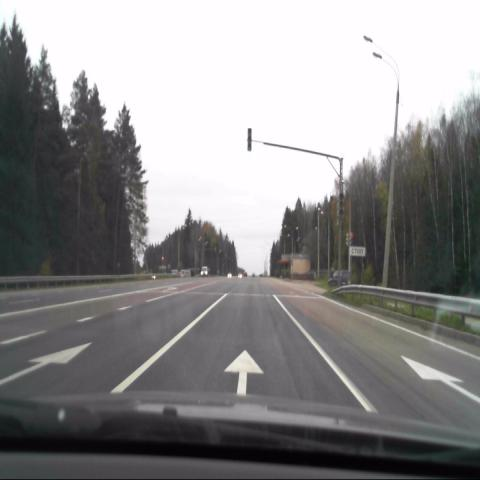6_16: (349, 245, 366, 258)
